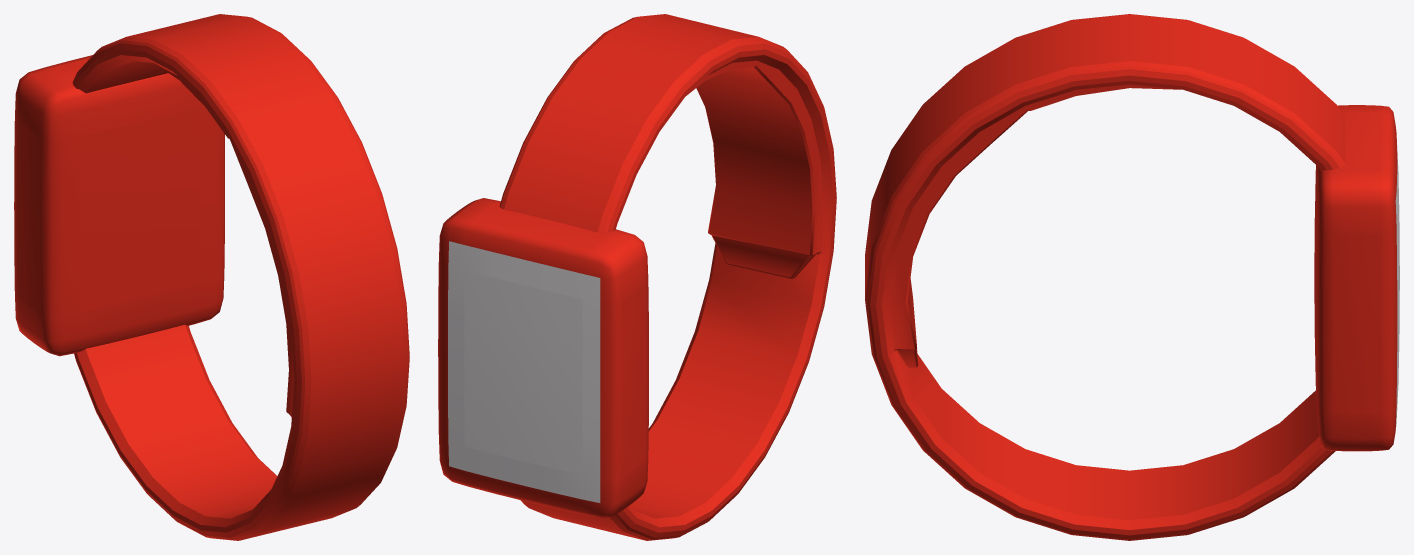
The model's file is watch.glb.
3 views of the same model, side by side, from view 1: azimuth 30°, elevation 25°; view 2: azimuth 150°, elevation 25°; view 3: azimuth 270°, elevation 25° (orthographic). The views are drawn at different scales.
Parts seen in each view (by area): view 1: Smartwatch; view 2: Smartwatch, Smartwatch.001; view 3: Smartwatch, Smartwatch.001.
Part boxes in pixels (bbox=[...]): Smartwatch: bbox=[14, 14, 409, 540]; Smartwatch: bbox=[438, 14, 836, 540]; Smartwatch.001: bbox=[448, 241, 600, 502]; Smartwatch: bbox=[865, 14, 1397, 540]; Smartwatch.001: bbox=[1395, 138, 1399, 429].
Size of the model in its own units: 1.64 by 4 by 4.04.
